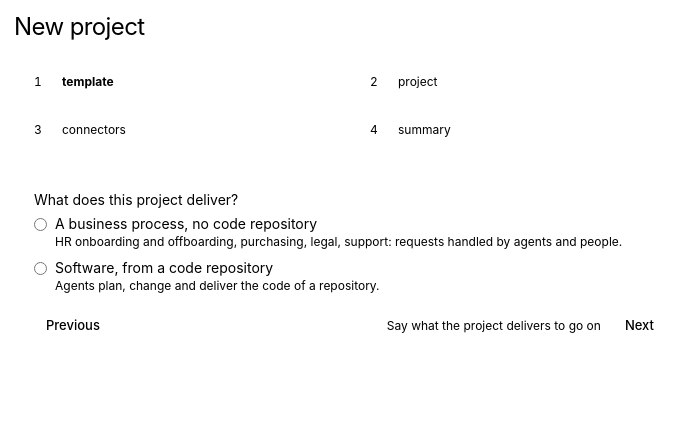
Test: the project creation wizard (S23-06) › says why "next" waits, and summarises in words, not in keys
Click the radio button labelled "no code repository" at [40, 224], box [34,218,47,231]
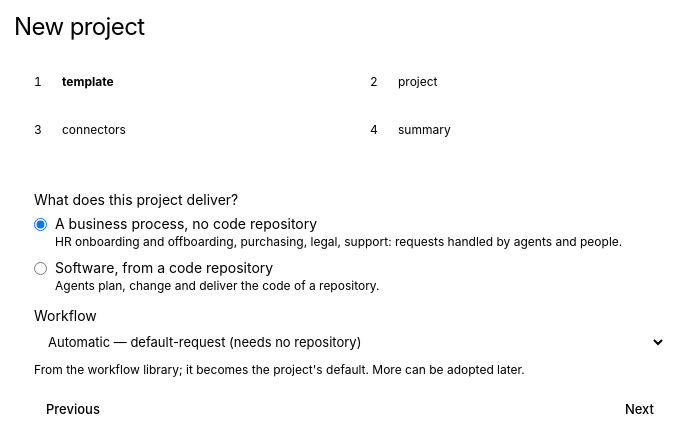
Click the button "Next" at [639, 410], box [613,394,666,426]
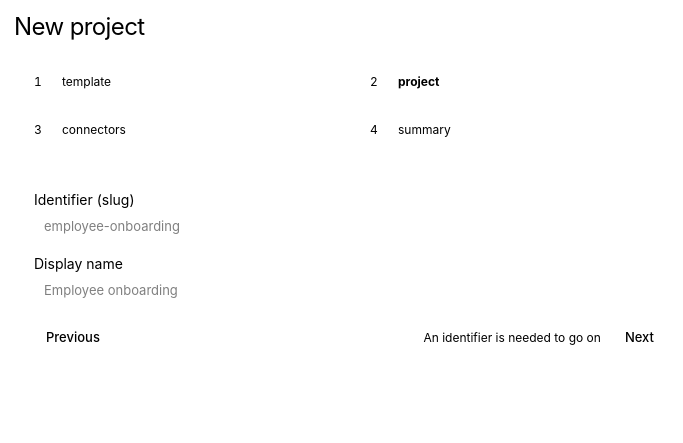
Check: the button "Next" is disabled, box [613,322,666,354]
Type "people-ops" into the field labelled "Identifier (slug)" at [350, 226], box [34,210,666,242]
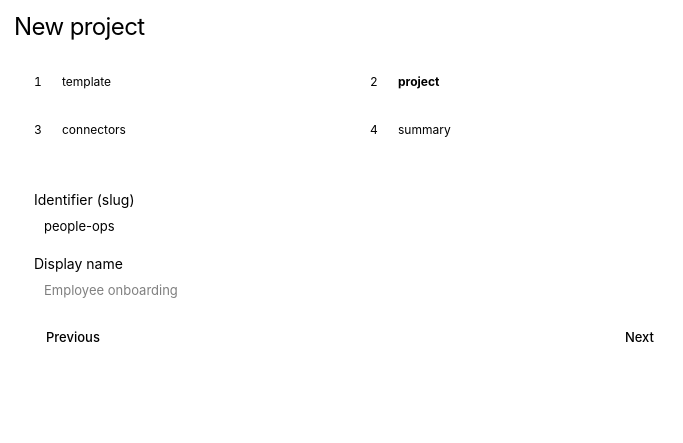
Check: the text "An identifier is needed to go on" is gone
Click the button "Next" at [639, 338], box [613,322,666,354]
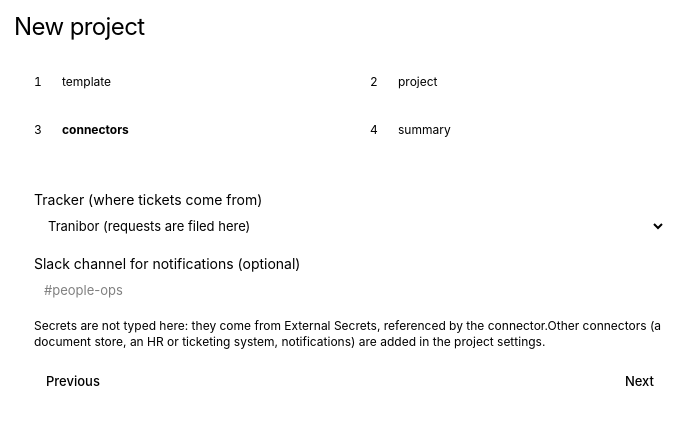
Click the button "Next" at [639, 382], box [613,366,666,398]
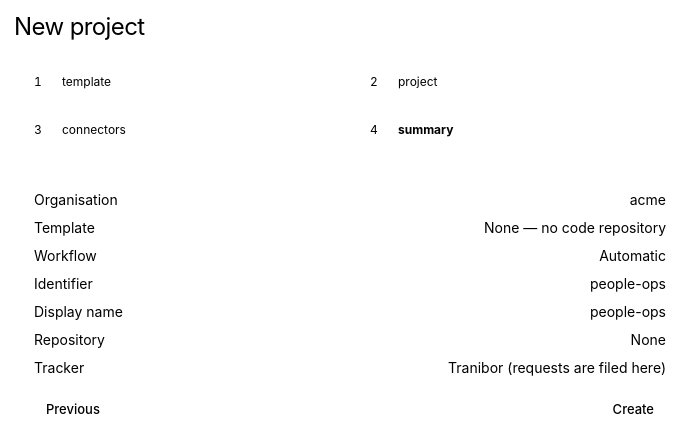
Check: the element with test id "summary" does not show "sansDepot", box [34,190,666,378]
Check: the element with test id "summary" shows "Identifier", box [34,275,93,292]
